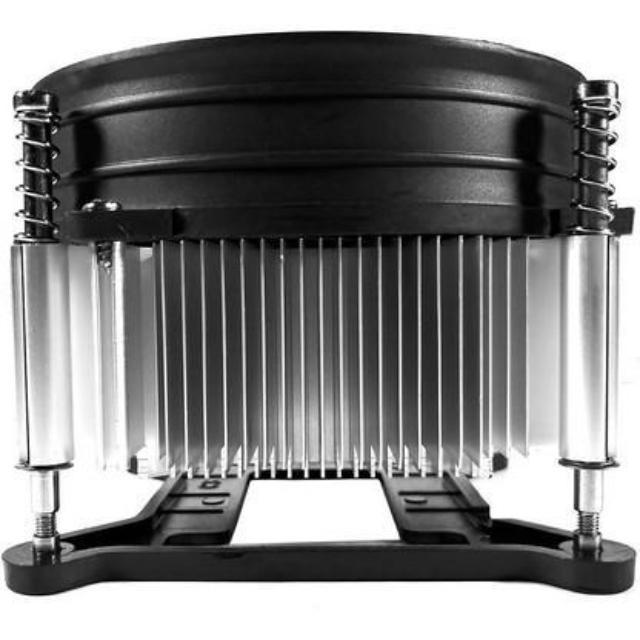CPU_Fan: (11, 32, 631, 603)
